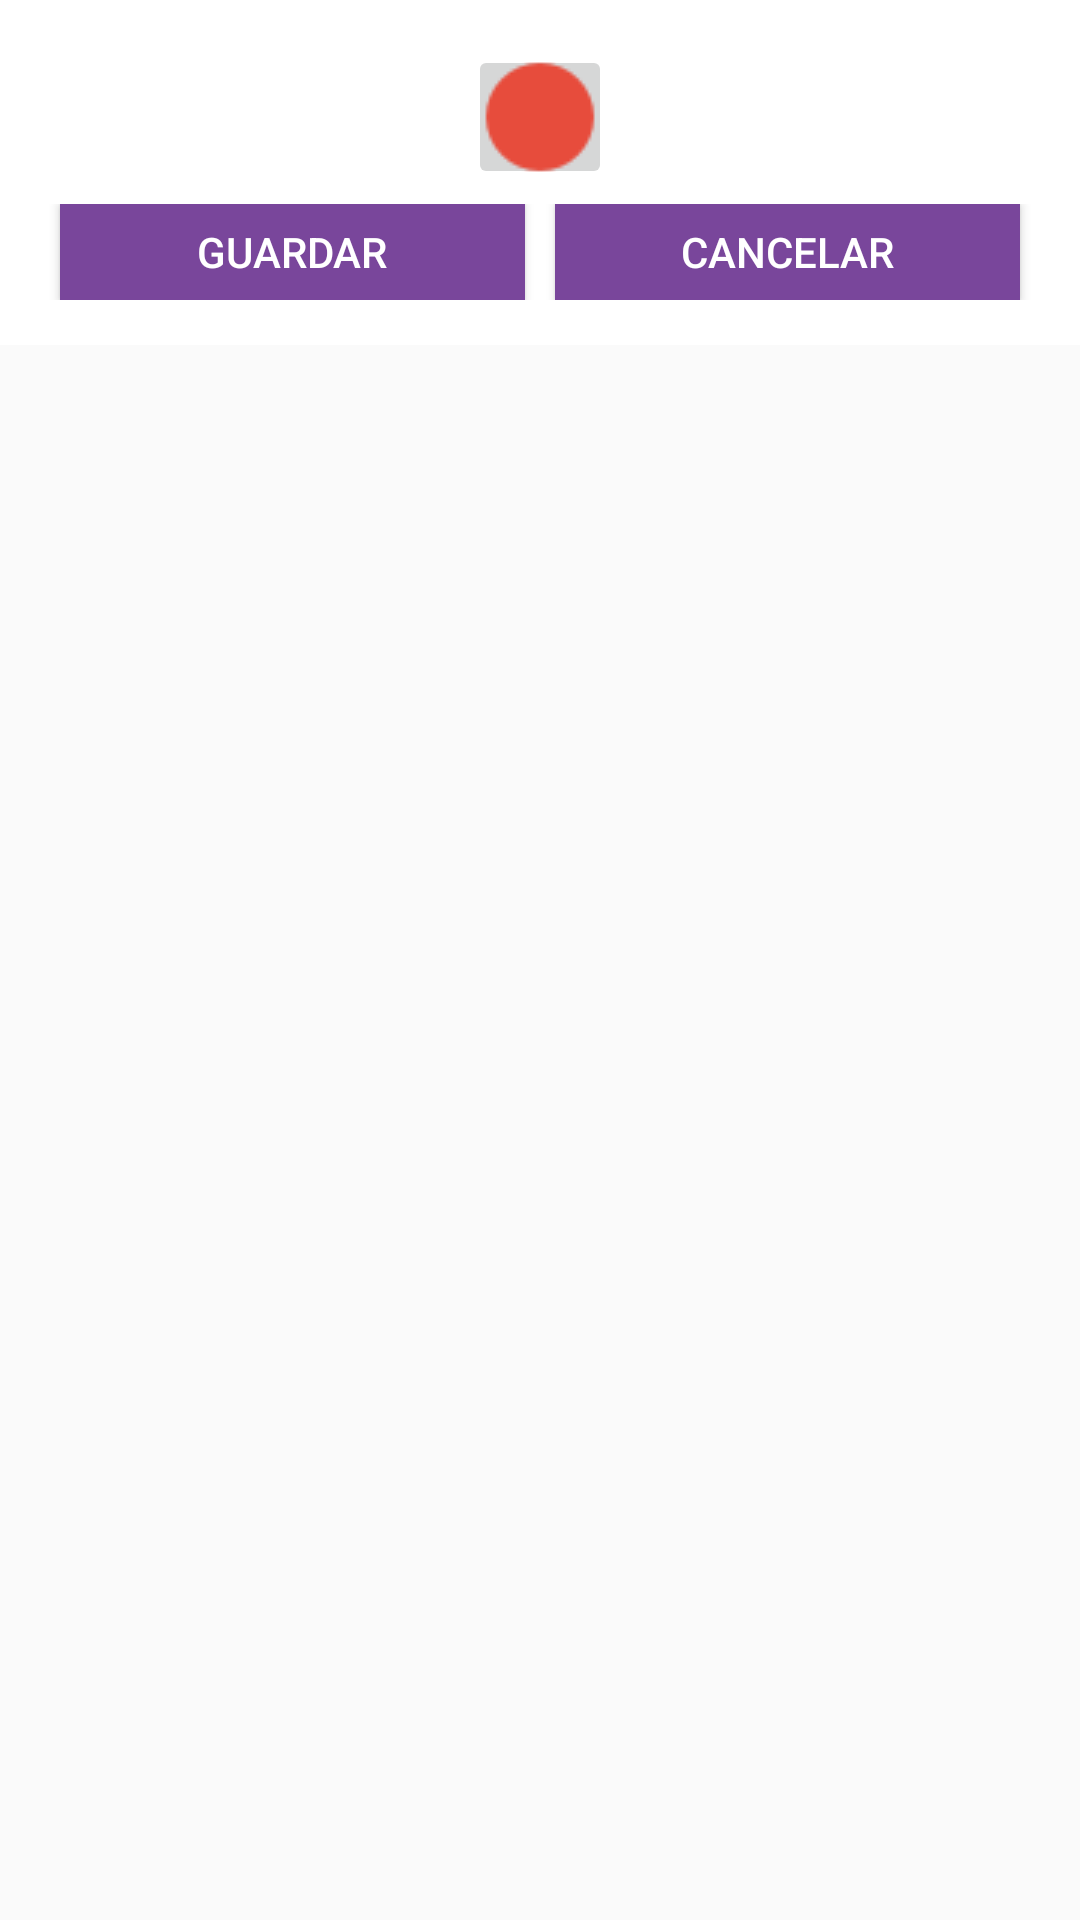

Icons on this 1080x1920 Android screen, each with the point to tap as (x,y):
record: (540,117)
